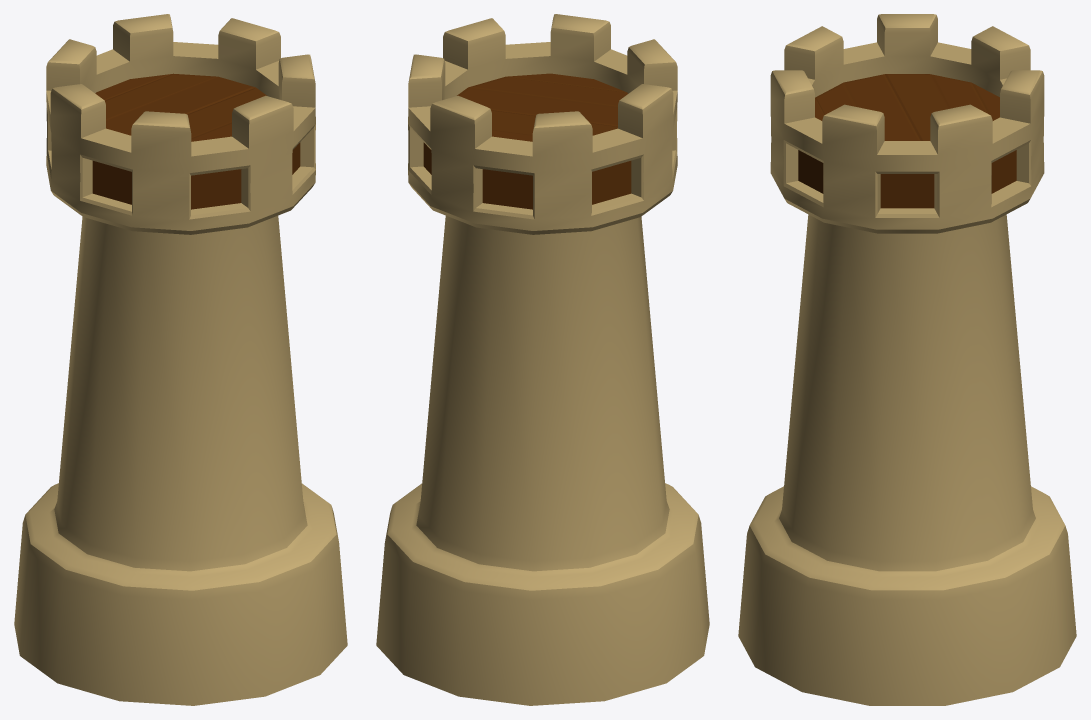
Rendered from tower.fbx.
3 renders of one model, left to right at view 1: azimuth 30°, elevation 25°; view 2: azimuth 150°, elevation 25°; view 3: azimuth 270°, elevation 25°, orthographic.
Parts seen in each view (by area): view 1: Tower; view 2: Tower; view 3: Tower.
Boxes of the visible parts, bbox=[...] form: Tower: bbox=[14, 14, 347, 705]; Tower: bbox=[376, 14, 709, 705]; Tower: bbox=[738, 14, 1076, 705].
Size of the model in its own units: 3.26 by 6.18 by 3.34.
